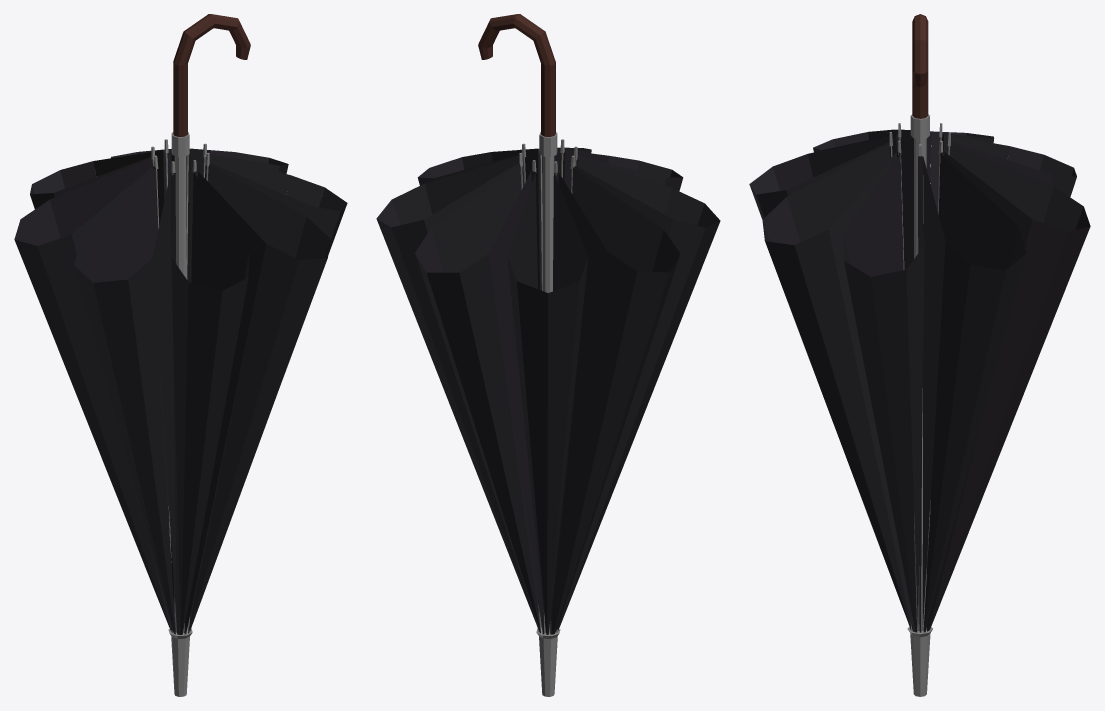
Rendered from umbrella.obj.
The picture shows the model from 3 angles, left to right: view 1: azimuth 30°, elevation 25°; view 2: azimuth 150°, elevation 25°; view 3: azimuth 270°, elevation 25°; orthographic projection. The views are drawn at different scales.
Parts seen in each view (by area): view 1: umbrella; view 2: umbrella; view 3: umbrella.
Boxes of the visible parts, left/top/right/bottom form: umbrella: left=14, top=14, right=347, bottom=696; umbrella: left=376, top=14, right=720, bottom=696; umbrella: left=749, top=14, right=1090, bottom=696.
Size of the model in its own units: 0.3252 by 0.7289 by 0.3246.
Materials: 1 (1 with a texture image).
